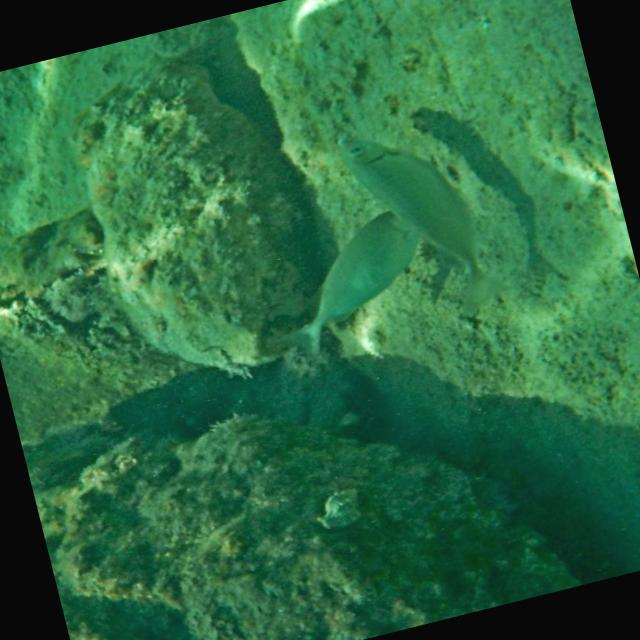Sokar Baligi: (326, 100, 514, 336)
